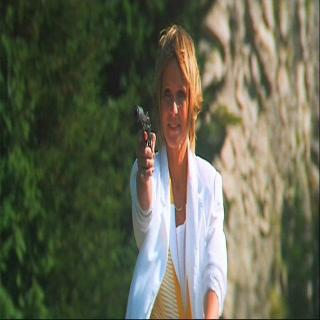gun: (131, 89, 156, 173)
